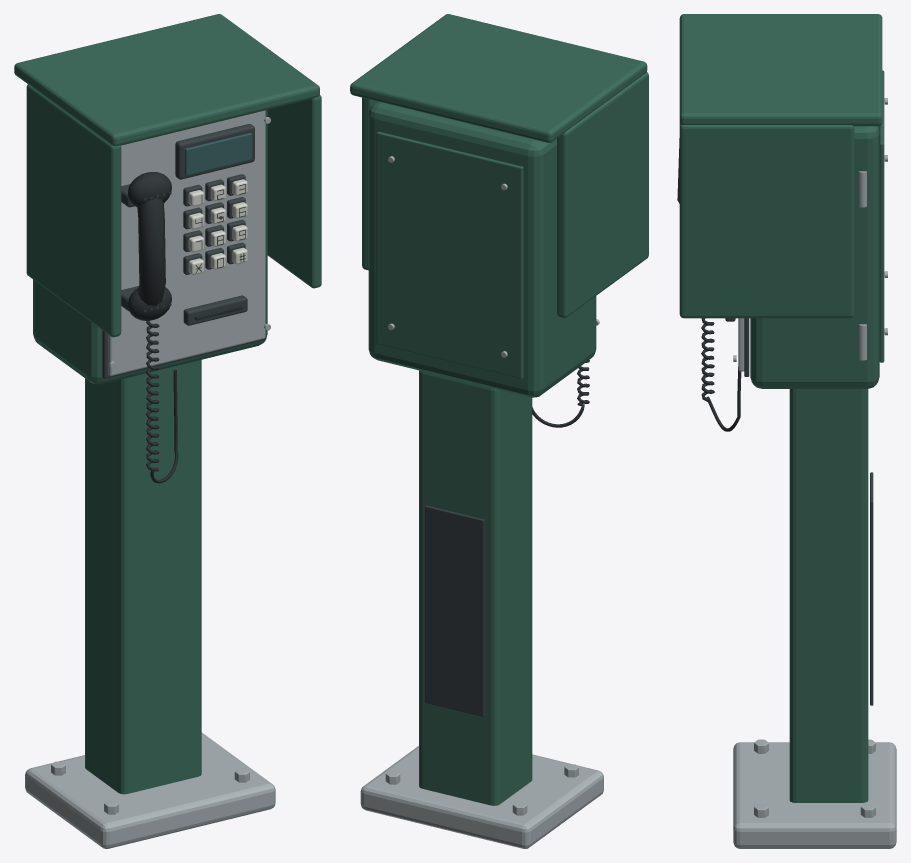
File: city-public-telephone.glb
3 renders of one model, left to right at view 1: azimuth 30°, elevation 25°; view 2: azimuth 150°, elevation 25°; view 3: azimuth 270°, elevation 25°, orthographic. The views are drawn at different scales.
Parts seen in each view (by area): view 1: Hollow service pedestal, Rain hood roof, Inset brushed metal face, Protective rain hood side, Ground anchor footplate, Protective rain hood side.001, Telephone weatherproof cabinet, Curved telephone handset spine, Blank nonfunctional information display, Continuous coiled handset cable, Header display bezel, Handset receiver cup (+3 smaller); view 2: Hollow service pedestal, Rear cabinet service door, Rain hood roof, Telephone weatherproof cabinet, Protective rain hood side, Pedestal access panel, Ground anchor footplate, Protective rain hood side.001, Continuous coiled handset cable; view 3: Protective rain hood side.001, Hollow service pedestal, Rain hood roof, Telephone weatherproof cabinet, Ground anchor footplate, Rear cabinet service door, Continuous coiled handset cable, Pedestal access panel.
Boxes of the visible parts, bbox=[...] form: Hollow service pedestal: bbox=[85, 360, 201, 794]; Rain hood roof: bbox=[14, 14, 319, 146]; Inset brushed metal face: bbox=[108, 110, 265, 375]; Protective rain hood side: bbox=[26, 84, 121, 337]; Ground anchor footplate: bbox=[25, 732, 275, 848]; Protective rain hood side.001: bbox=[267, 95, 321, 288]; Telephone weatherproof cabinet: bbox=[33, 110, 267, 384]; Curved telephone handset spine: bbox=[137, 198, 165, 306]; Blank nonfunctional information display: bbox=[185, 132, 251, 175]; Continuous coiled handset cable: bbox=[146, 320, 178, 483]; Header display bezel: bbox=[175, 124, 254, 179]; Handset receiver cup: bbox=[128, 172, 171, 207]; Hollow service pedestal: bbox=[419, 370, 532, 805]; Rear cabinet service door: bbox=[376, 131, 523, 378]; Rain hood roof: bbox=[350, 14, 647, 142]; Telephone weatherproof cabinet: bbox=[368, 101, 596, 397]; Protective rain hood side: bbox=[557, 72, 648, 317]; Pedestal access panel: bbox=[425, 505, 484, 716]; Ground anchor footplate: bbox=[360, 746, 603, 848]; Protective rain hood side.001: bbox=[362, 97, 377, 270]; Continuous coiled handset cable: bbox=[532, 360, 589, 427]; Protective rain hood side.001: bbox=[679, 124, 854, 318]; Hollow service pedestal: bbox=[789, 389, 868, 802]; Rain hood roof: bbox=[679, 14, 882, 126]; Telephone weatherproof cabinet: bbox=[750, 126, 879, 388]; Ground anchor footplate: bbox=[733, 742, 896, 848]; Rear cabinet service door: bbox=[879, 70, 884, 362]; Continuous coiled handset cable: bbox=[701, 318, 741, 431]; Pedestal access panel: bbox=[870, 472, 873, 705].
Size of the model in its own units: 0.436 by 1.46 by 0.3892.
